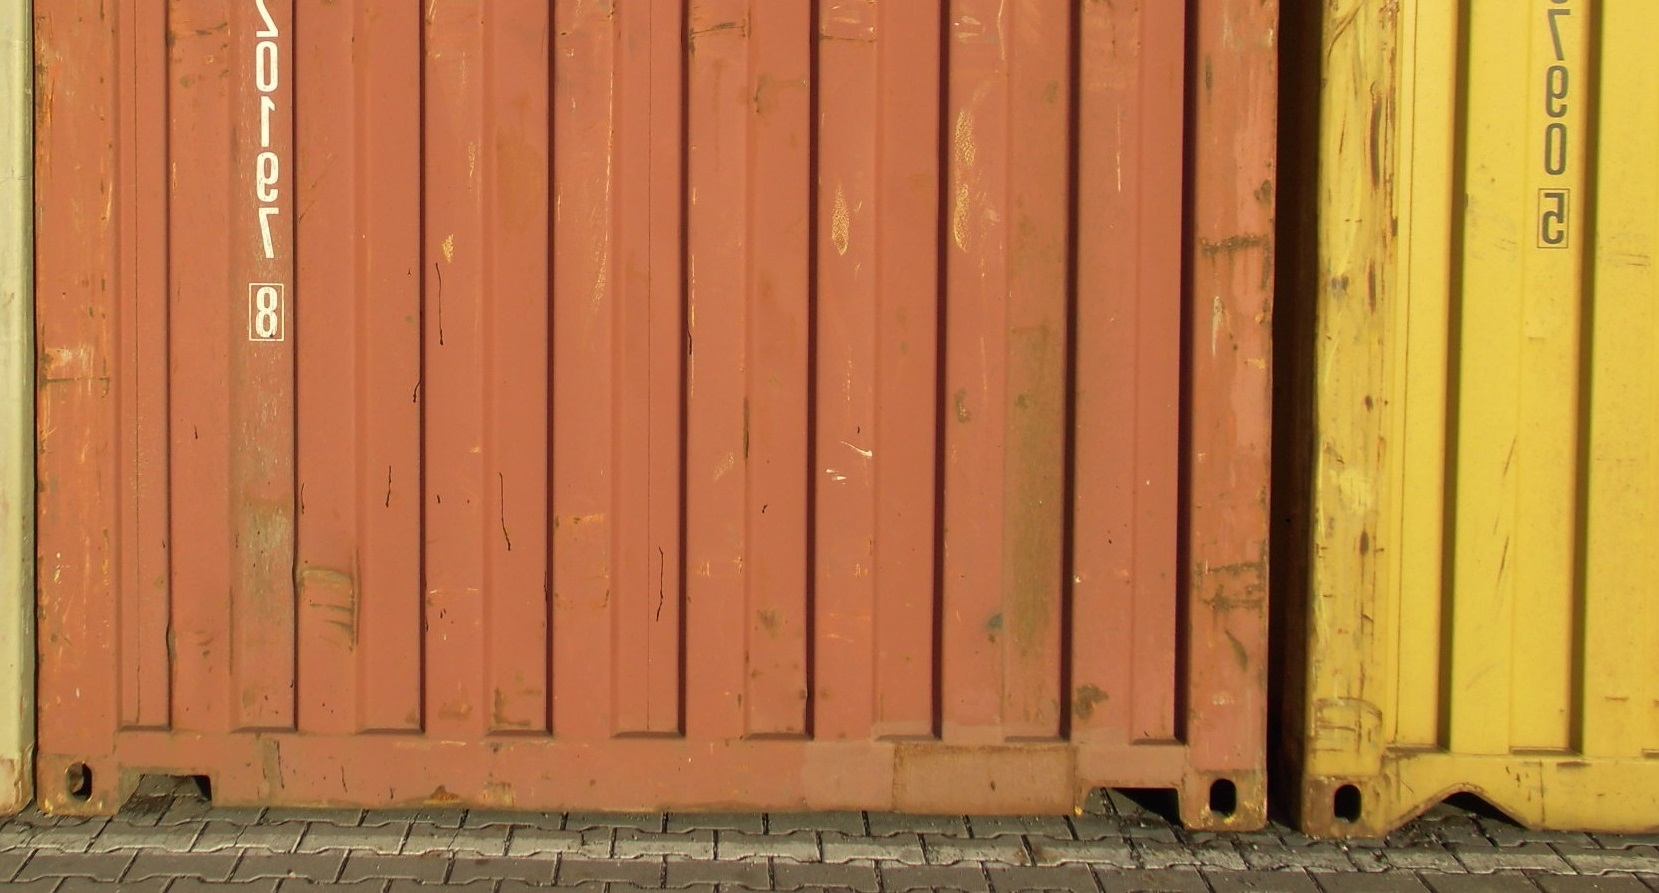container_no_door: (44, 1, 1280, 820), (1295, 1, 1659, 834)
